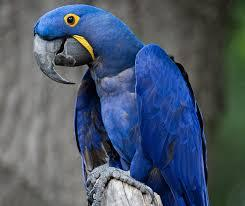Non_Gorille: (24, 2, 234, 206)
